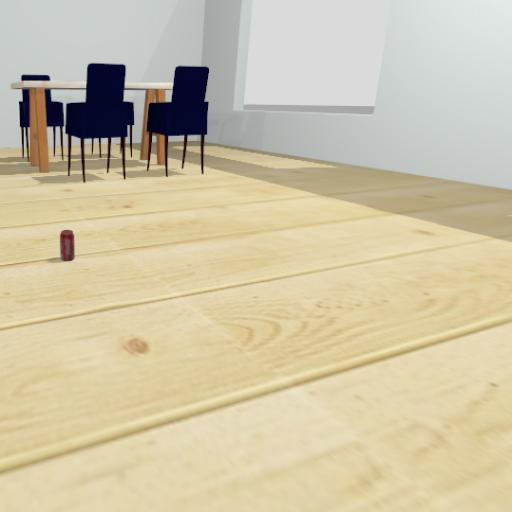COCA: (44, 204, 96, 280)
